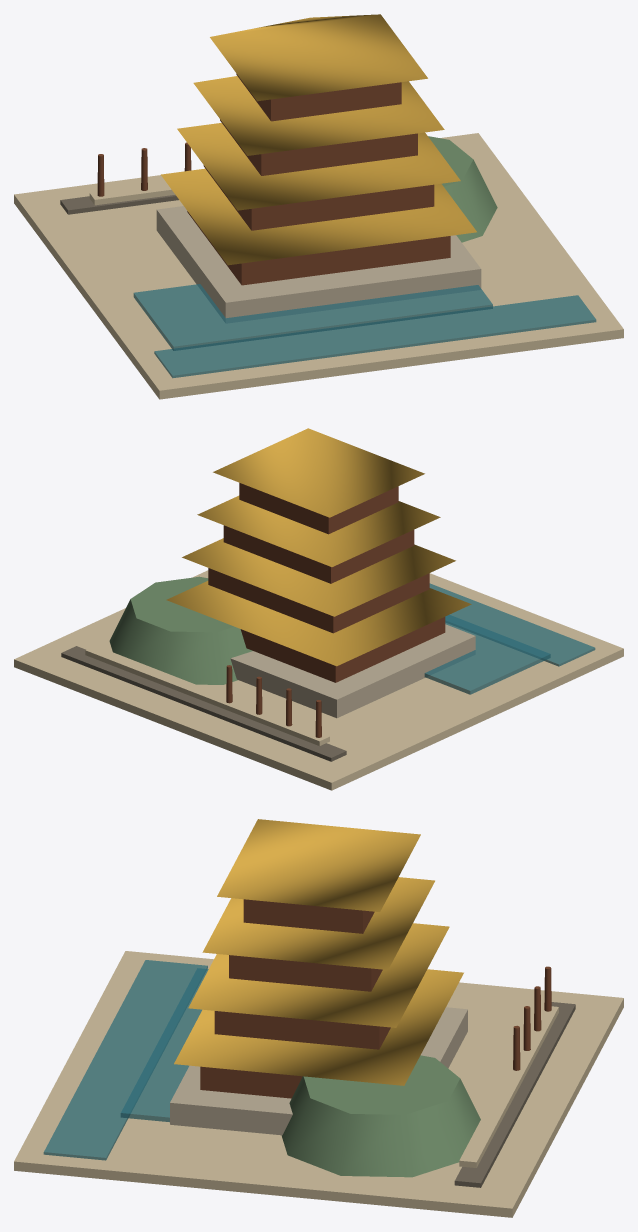
File: model-medium.glb
The picture shows the model from 3 angles, top to bottom: view 1: azimuth 30°, elevation 25°; view 2: azimuth 150°, elevation 25°; view 3: azimuth 270°, elevation 25°; orthographic projection. The views are drawn at different scales.
Parts seen in each view (by area): view 1: context_site_plinth, pavilion_terrace, pavilion_roof_4, context_water_edge, pavilion_roof_1, garden_pond, pavilion_roof_2, pavilion_roof_3, pavilion_floor_1, pavilion_floor_2, pavilion_floor_3, pavilion_floor_4 (+3 smaller); view 2: context_site_plinth, pavilion_roof_4, garden_rockery_hill, pavilion_roof_1, pavilion_terrace, pavilion_roof_2, pavilion_roof_3, garden_pond, context_water_edge, pavilion_floor_2, pavilion_floor_1, front_scale_strip (+3 smaller); view 3: context_site_plinth, garden_rockery_hill, pavilion_roof_4, context_water_edge, pavilion_roof_1, pavilion_roof_2, pavilion_roof_3, pavilion_terrace, garden_pond, pavilion_floor_2, pavilion_floor_3, front_scale_strip (+3 smaller).
Boxes of the visible parts, bbox=[...] form: context_site_plinth: bbox=[14, 133, 623, 399]; pavilion_terrace: bbox=[156, 206, 481, 323]; pavilion_roof_4: bbox=[210, 14, 427, 101]; context_water_edge: bbox=[154, 295, 596, 378]; pavilion_roof_1: bbox=[161, 168, 476, 265]; garden_pond: bbox=[133, 284, 492, 350]; pavilion_roof_2: bbox=[177, 123, 460, 210]; pavilion_roof_3: bbox=[193, 76, 444, 155]; pavilion_floor_1: bbox=[187, 211, 450, 285]; pavilion_floor_2: bbox=[203, 165, 434, 230]; pavilion_floor_3: bbox=[220, 119, 417, 175]; pavilion_floor_4: bbox=[236, 73, 401, 121]; context_site_plinth: bbox=[14, 570, 623, 790]; pavilion_roof_4: bbox=[213, 428, 424, 517]; garden_rockery_hill: bbox=[109, 576, 252, 684]; pavilion_roof_1: bbox=[166, 581, 471, 666]; pavilion_terrace: bbox=[230, 624, 475, 718]; pavilion_roof_2: bbox=[182, 538, 455, 616]; pavilion_roof_3: bbox=[197, 495, 440, 566]; garden_pond: bbox=[424, 614, 550, 694]; context_water_edge: bbox=[429, 583, 595, 666]; pavilion_floor_2: bbox=[208, 568, 429, 633]; pavilion_floor_1: bbox=[240, 617, 445, 682]; front_scale_strip: bbox=[61, 646, 346, 761]; context_site_plinth: bbox=[14, 951, 623, 1217]; garden_rockery_hill: bbox=[281, 1055, 480, 1177]; pavilion_roof_4: bbox=[217, 819, 420, 911]; context_water_edge: bbox=[43, 960, 207, 1160]; pavilion_roof_1: bbox=[174, 969, 463, 1085]; pavilion_roof_2: bbox=[188, 923, 449, 1027]; pavilion_roof_3: bbox=[202, 877, 434, 969]; pavilion_terrace: bbox=[170, 1007, 467, 1135]; garden_pond: bbox=[120, 968, 208, 1122]; pavilion_floor_2: bbox=[214, 1011, 390, 1049]; pavilion_floor_3: bbox=[229, 955, 382, 991]; front_scale_strip: bbox=[454, 1002, 575, 1187].
Bounding box in the file's own units: 9.55 × 4.38 × 9.55.
